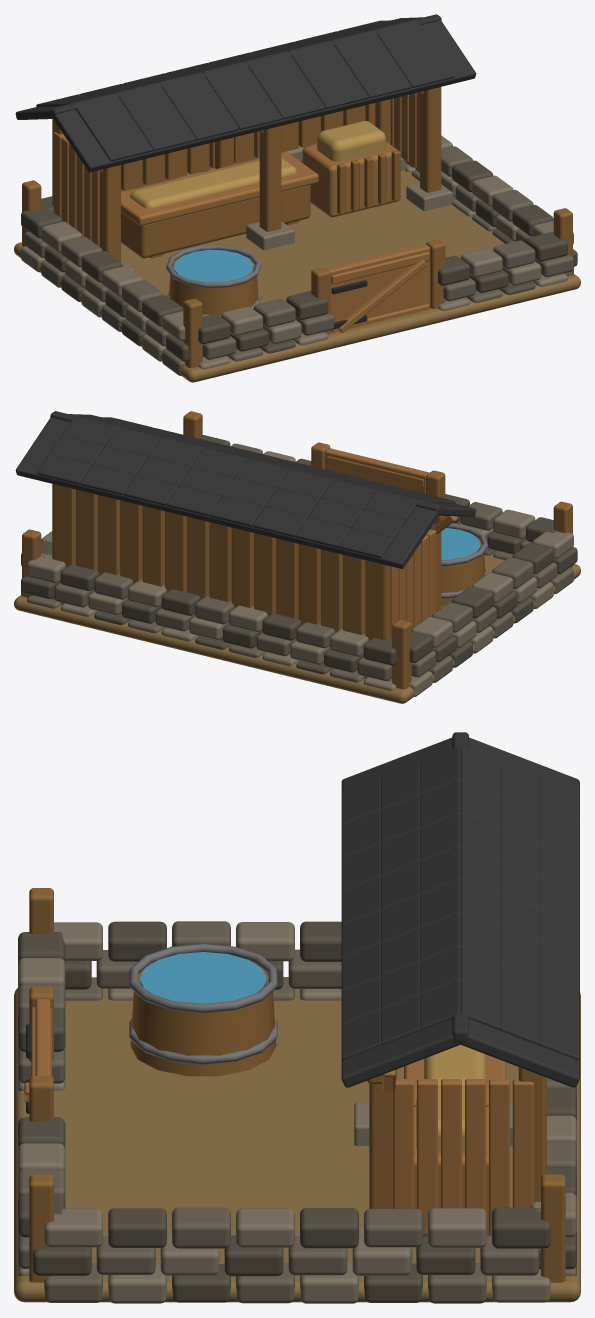
The model's file is sheepfold.glb.
The picture shows the model from 3 angles, top to bottom: view 1: azimuth 30°, elevation 25°; view 2: azimuth 150°, elevation 25°; view 3: azimuth 270°, elevation 25°; orthographic projection. The views are drawn at different scales.
Visible parts, largest first — view 1: sheepfold-farm-roof-slate, sheepfold-farm-wood-dark, sheepfold-farm-dirt, sheepfold-farm-wood, sheepfold-farm-stone, sheepfold-farm-stone-dark, sheepfold-farm-rock, sheepfold-farm-thatch, sheepfold-farm-water, sheepfold-farm-metal; view 2: sheepfold-farm-roof-slate, sheepfold-farm-wood-dark, sheepfold-farm-stone-dark, sheepfold-farm-stone, sheepfold-farm-rock, sheepfold-farm-wood, sheepfold-farm-dirt, sheepfold-farm-water, sheepfold-farm-metal; view 3: sheepfold-farm-roof-slate, sheepfold-farm-dirt, sheepfold-farm-stone-dark, sheepfold-farm-stone, sheepfold-farm-rock, sheepfold-farm-wood, sheepfold-farm-wood-dark, sheepfold-farm-water, sheepfold-farm-metal, sheepfold-farm-thatch.
Boxes of the visible parts, left/top/right/bottom form: sheepfold-farm-roof-slate: left=15, top=14, right=476, bottom=172; sheepfold-farm-wood-dark: left=22, top=87, right=572, bottom=367; sheepfold-farm-dirt: left=14, top=170, right=580, bottom=382; sheepfold-farm-wood: left=53, top=91, right=430, bottom=332; sheepfold-farm-stone: left=21, top=135, right=573, bottom=369; sheepfold-farm-stone-dark: left=21, top=156, right=577, bottom=361; sheepfold-farm-rock: left=24, top=143, right=573, bottom=375; sheepfold-farm-thatch: left=130, top=121, right=385, bottom=208; sheepfold-farm-water: left=174, top=249, right=253, bottom=282; sheepfold-farm-metal: left=166, top=244, right=261, bottom=316; sheepfold-farm-roof-slate: left=15, top=411, right=476, bottom=568; sheepfold-farm-wood-dark: left=22, top=411, right=572, bottom=689; sheepfold-farm-stone-dark: left=21, top=435, right=577, bottom=674; sheepfold-farm-stone: left=21, top=451, right=573, bottom=696; sheepfold-farm-rock: left=27, top=443, right=573, bottom=682; sheepfold-farm-wood: left=325, top=448, right=457, bottom=638; sheepfold-farm-dirt: left=14, top=550, right=580, bottom=703; sheepfold-farm-water: left=441, top=528, right=480, bottom=559; sheepfold-farm-metal: left=441, top=523, right=488, bottom=598; sheepfold-farm-roof-slate: left=341, top=732, right=579, bottom=1087; sheepfold-farm-dirt: left=14, top=988, right=580, bottom=1302; sheepfold-farm-stone-dark: left=18, top=921, right=576, bottom=1302; sheepfold-farm-stone: left=18, top=922, right=576, bottom=1303; sheepfold-farm-rock: left=18, top=921, right=576, bottom=1303; sheepfold-farm-wood: left=24, top=999, right=533, bottom=1236; sheepfold-farm-wood-dark: left=29, top=888, right=565, bottom=1282; sheepfold-farm-water: left=140, top=952, right=266, bottom=1003; sheepfold-farm-metal: left=129, top=943, right=277, bottom=1064; sheepfold-farm-thatch: left=416, top=1044, right=485, bottom=1152.
Size of the model in its own units: 5.24 by 2.19 by 4.1.
